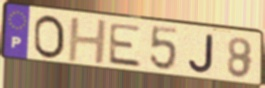5: (148, 24, 179, 73)
8: (225, 36, 254, 80)
E: (107, 22, 143, 69)
H: (66, 17, 109, 66)
J: (188, 33, 216, 75)
O: (32, 13, 67, 61)
